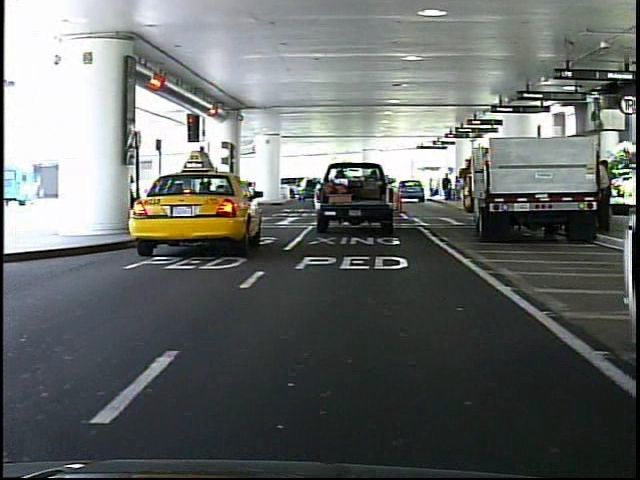person: (195, 167, 215, 215)
